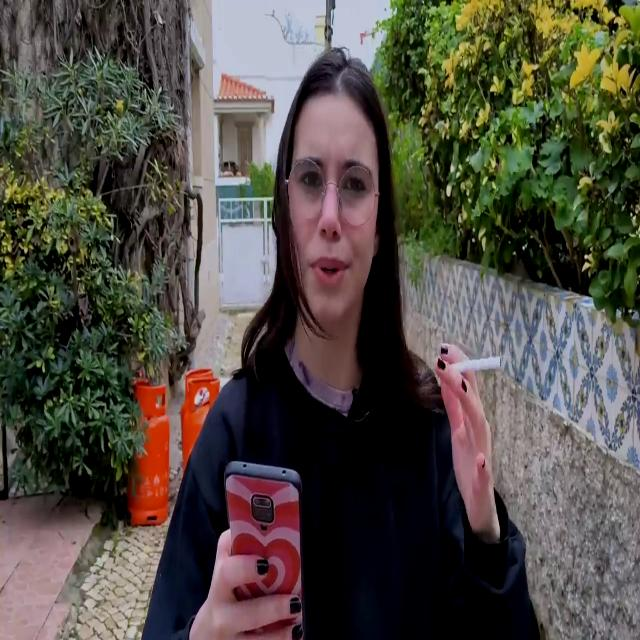Smooking: (452, 345, 511, 382)
